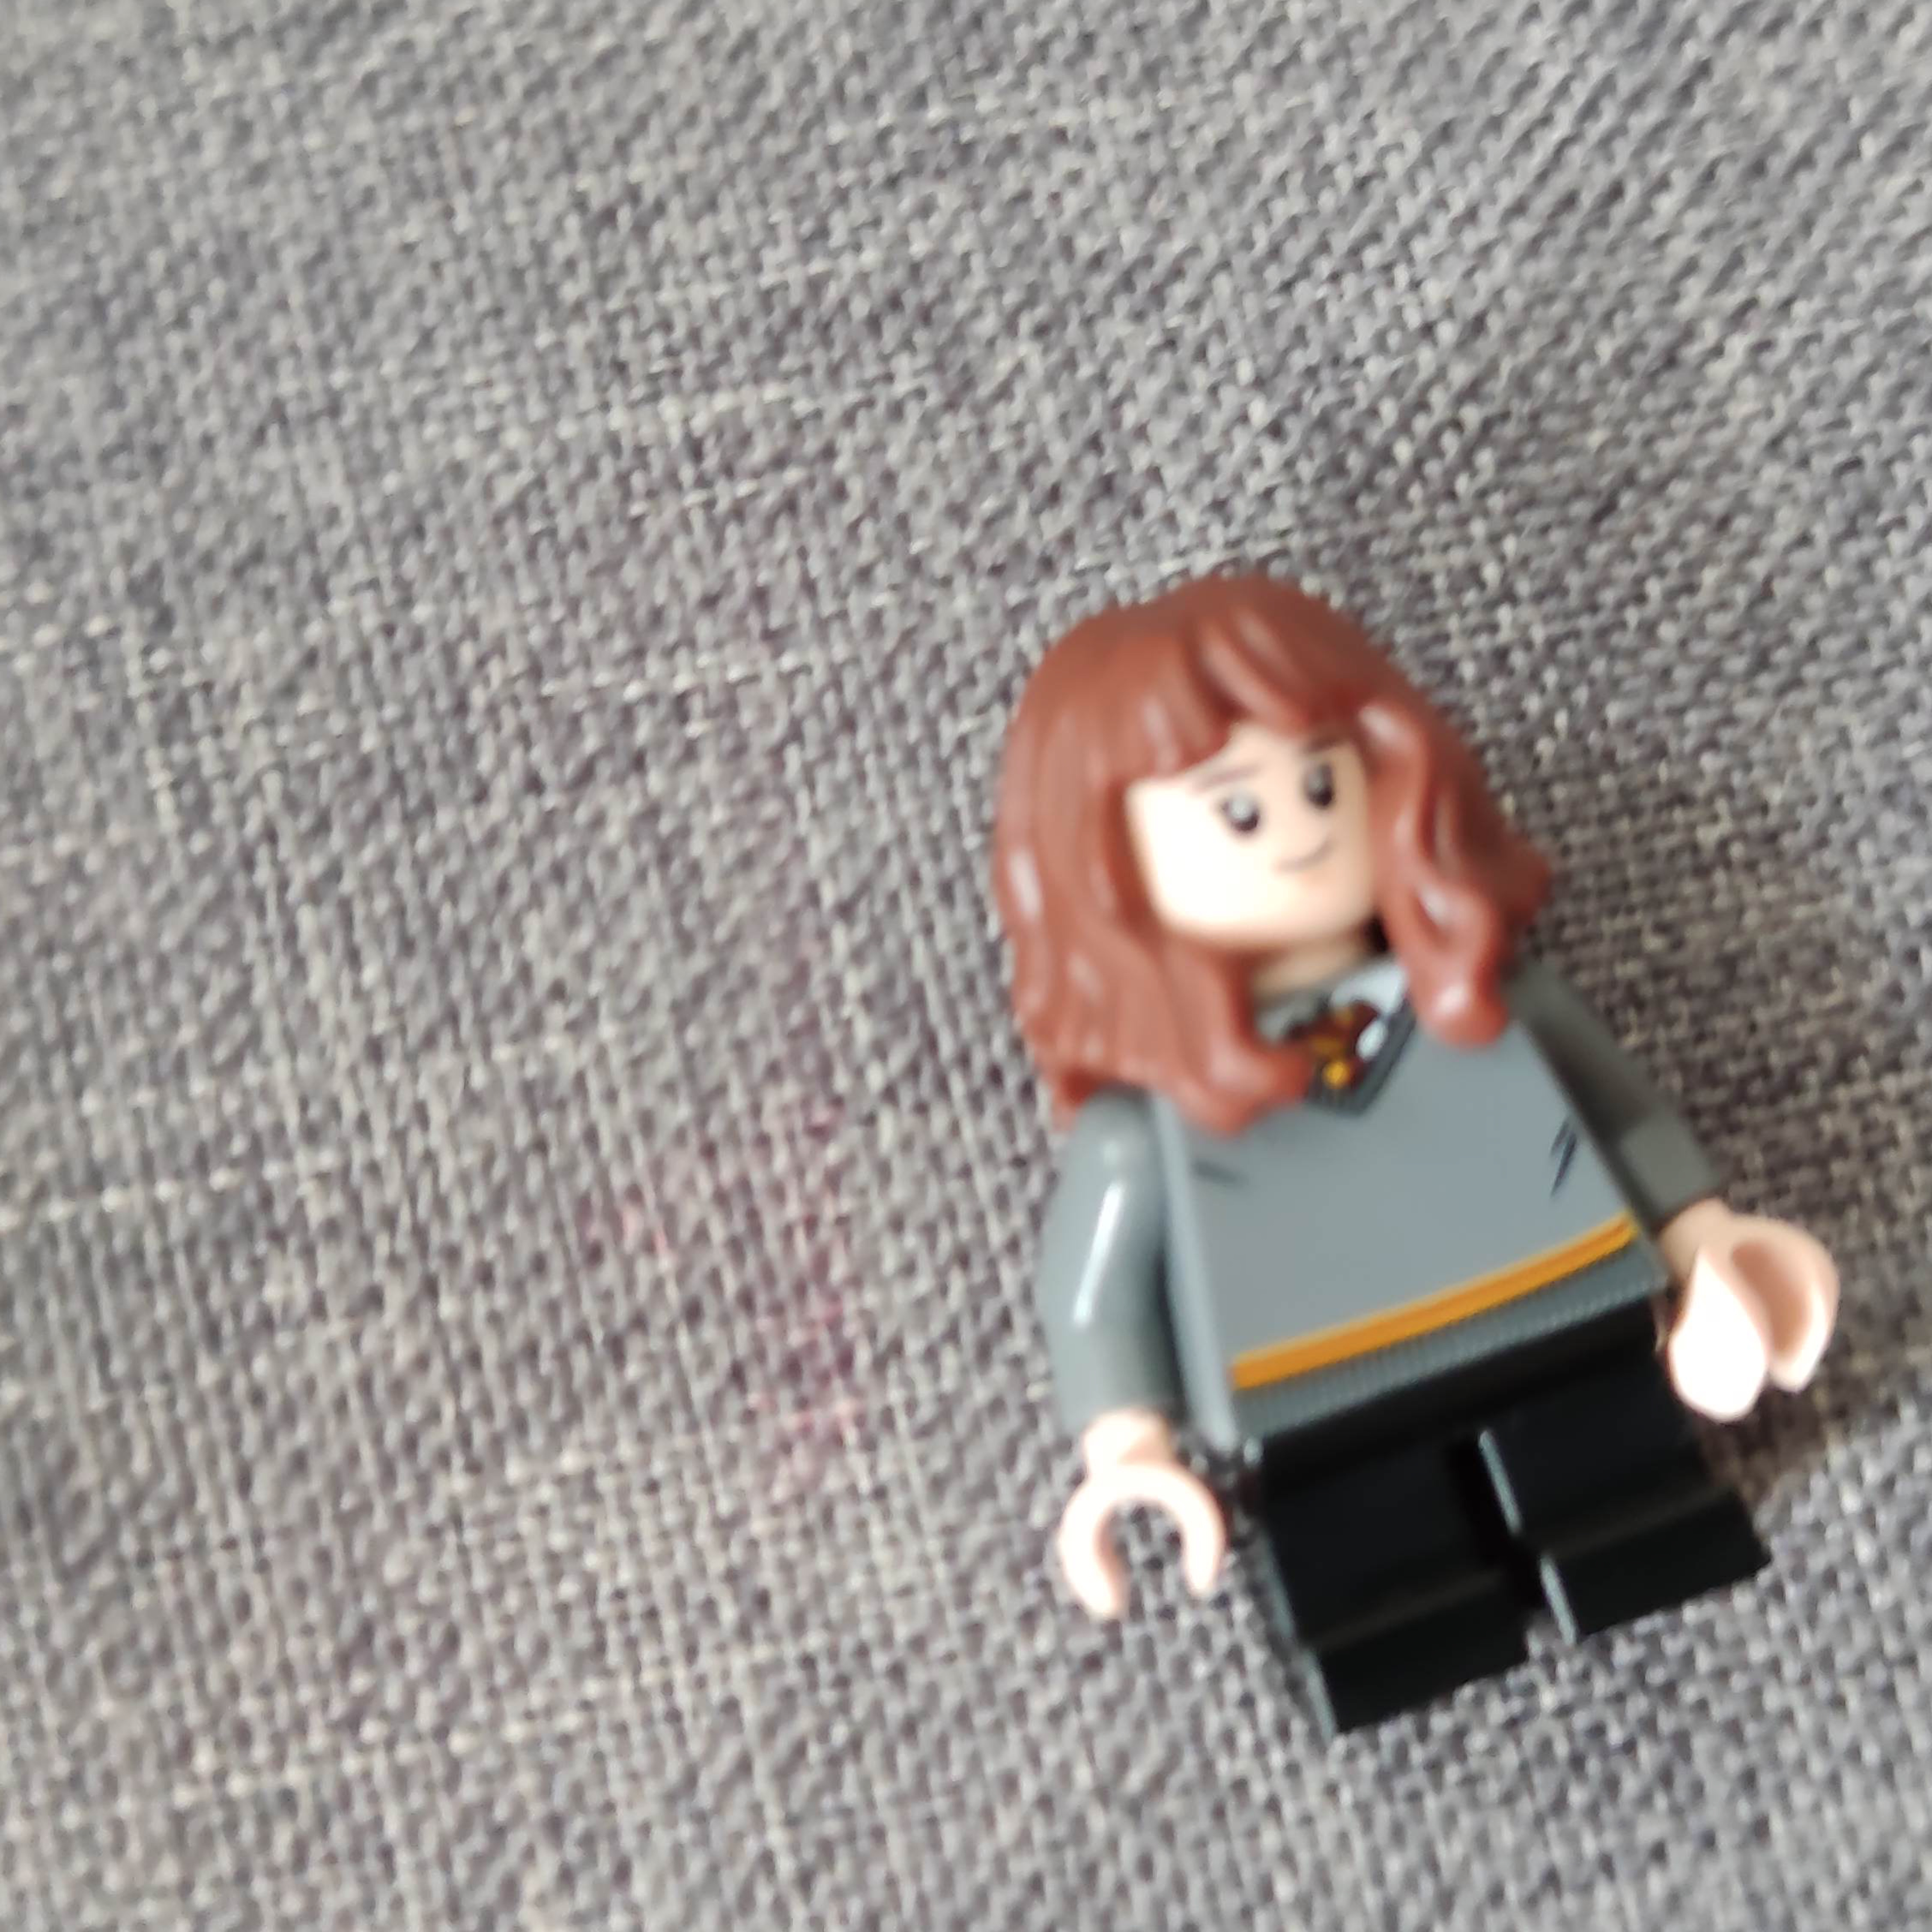lego: (984, 577, 1842, 1741)
